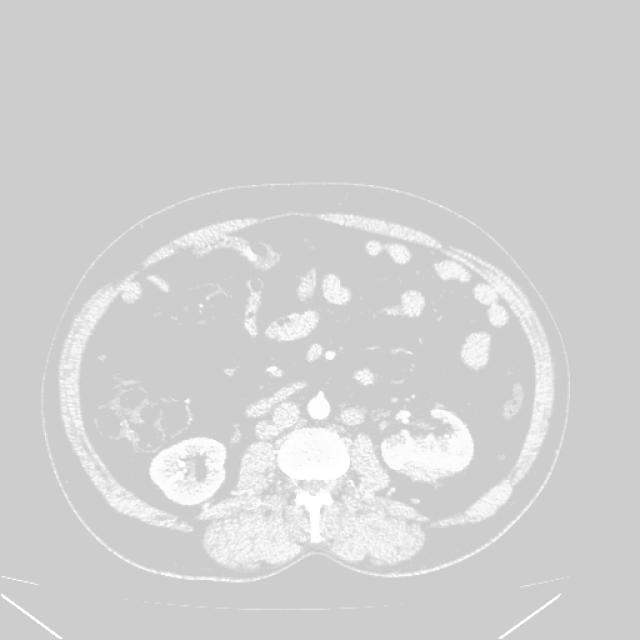TUMOR: (97, 237, 481, 468)
